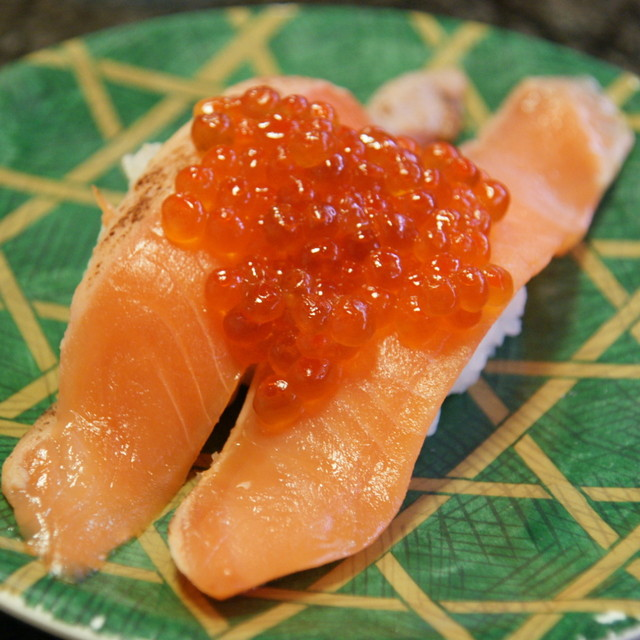salmon: (24, 54, 637, 589)
